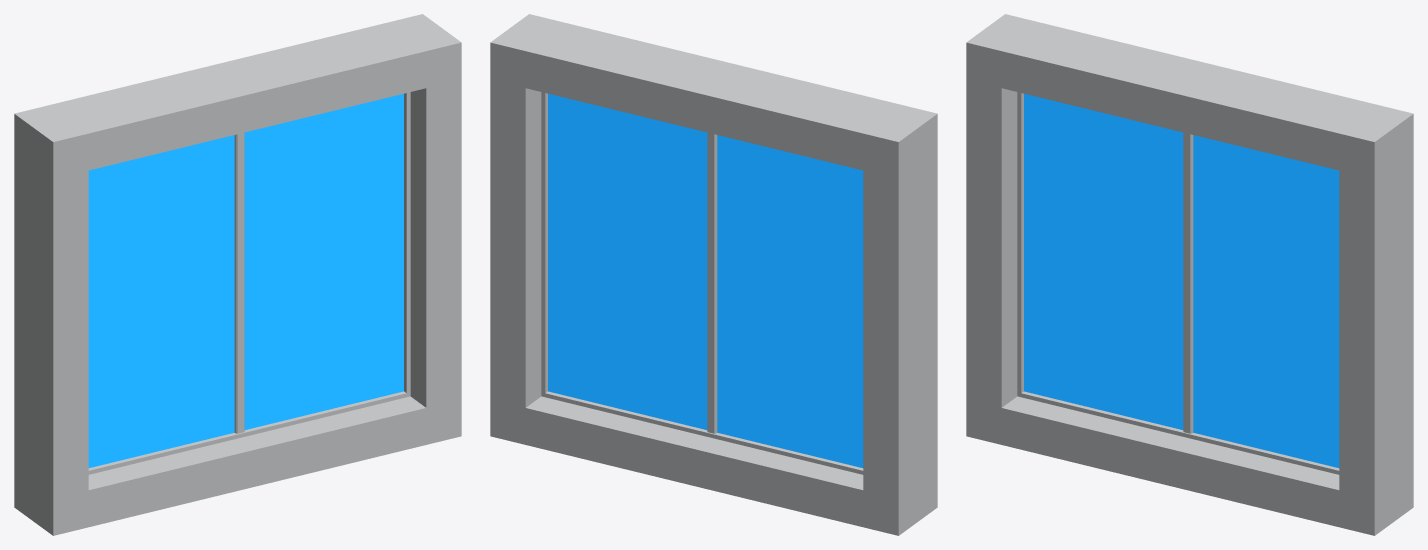
The model's file is janela_quadrada_folhas_branca.glb.
3 views of the same model, side by side, from view 1: azimuth 30°, elevation 25°; view 2: azimuth 150°, elevation 25°; view 3: azimuth 330°, elevation 25° (orthographic).
Parts seen in each view (by area): view 1: janela_quadrada_folhas_branca; view 2: janela_quadrada_folhas_branca; view 3: janela_quadrada_folhas_branca.
Boxes of the visible parts, <box> form: janela_quadrada_folhas_branca: <box>14,14,461,535</box>; janela_quadrada_folhas_branca: <box>490,14,937,535</box>; janela_quadrada_folhas_branca: <box>966,14,1413,535</box>.
Bounding box in the file's own units: 1.27 × 1.17 × 0.21.
